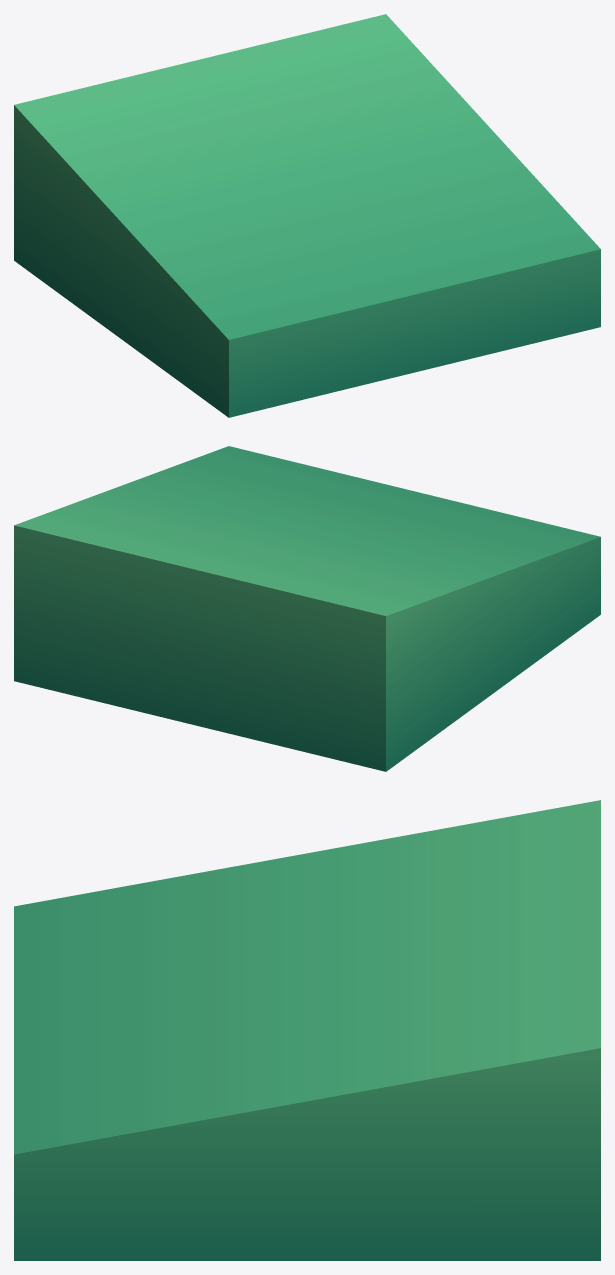
Rendered from kenney-tower-defense-tile-slope.glb.
3 renders of one model, top to bottom at view 1: azimuth 30°, elevation 25°; view 2: azimuth 150°, elevation 25°; view 3: azimuth 270°, elevation 25°, orthographic. The views are drawn at different scales.
Visible parts, largest first — view 1: tile-slope; view 2: tile-slope; view 3: tile-slope.
Part boxes in pixels (x1=…): tile-slope: x1=14, y1=14, x2=600, y2=417; tile-slope: x1=14, y1=446, x2=600, y2=771; tile-slope: x1=14, y1=800, x2=600, y2=1260.
Bounding box in the file's own units: 1 × 0.3999 × 1.
1 material, 1 textured.
